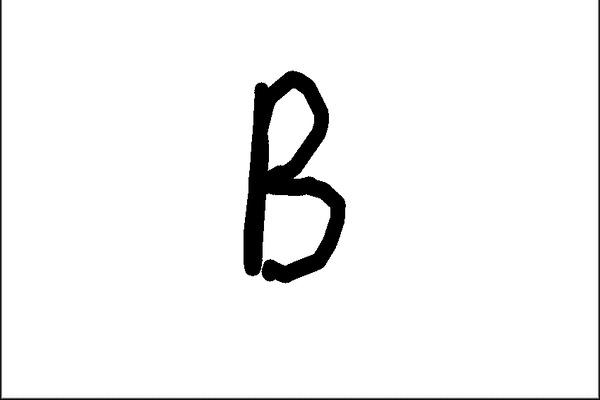B: (230, 62, 356, 294)
